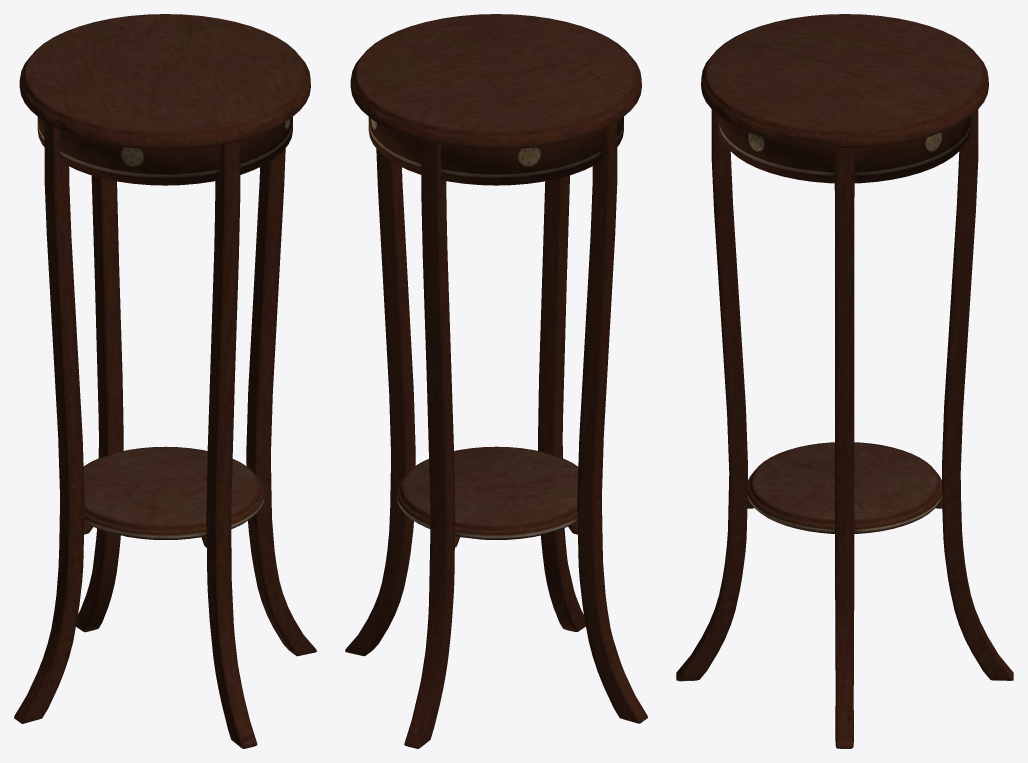
Rendered from side_table_tall_01.glb.
3 views of the same model, side by side, from view 1: azimuth 30°, elevation 25°; view 2: azimuth 150°, elevation 25°; view 3: azimuth 270°, elevation 25° (orthographic).
Visible parts, largest first — view 1: side_table_tall_01; view 2: side_table_tall_01; view 3: side_table_tall_01.
Part boxes in pixels (left/top/right/bottom): side_table_tall_01: left=14, top=14, right=316, bottom=748; side_table_tall_01: left=345, top=14, right=647, bottom=748; side_table_tall_01: left=676, top=14, right=1013, bottom=748.
Size of the model in its own units: 0.384 by 0.7611 by 0.384.
1 material, 1 textured.
